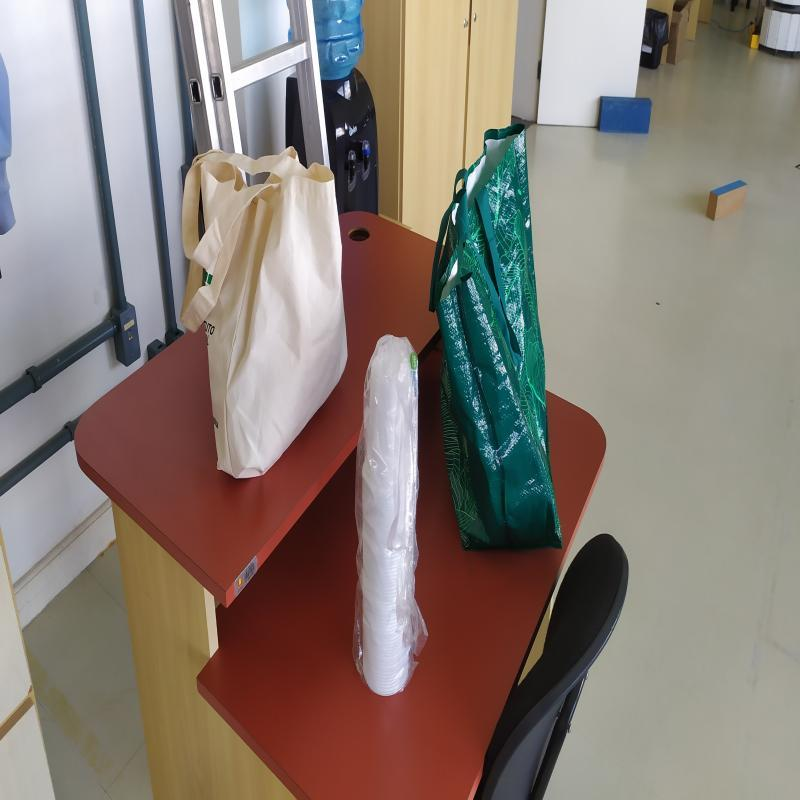Bag: (426, 126, 564, 558), (178, 146, 350, 488)
